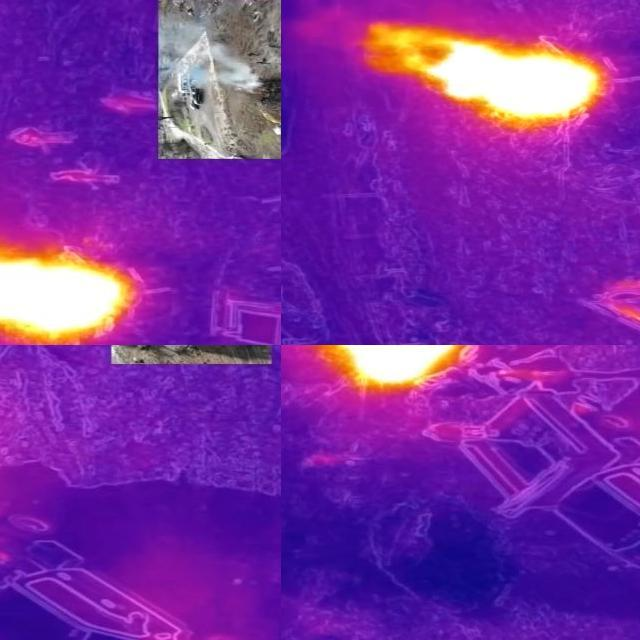fire: (375, 28, 603, 126), (1, 235, 142, 345), (296, 346, 476, 393)
